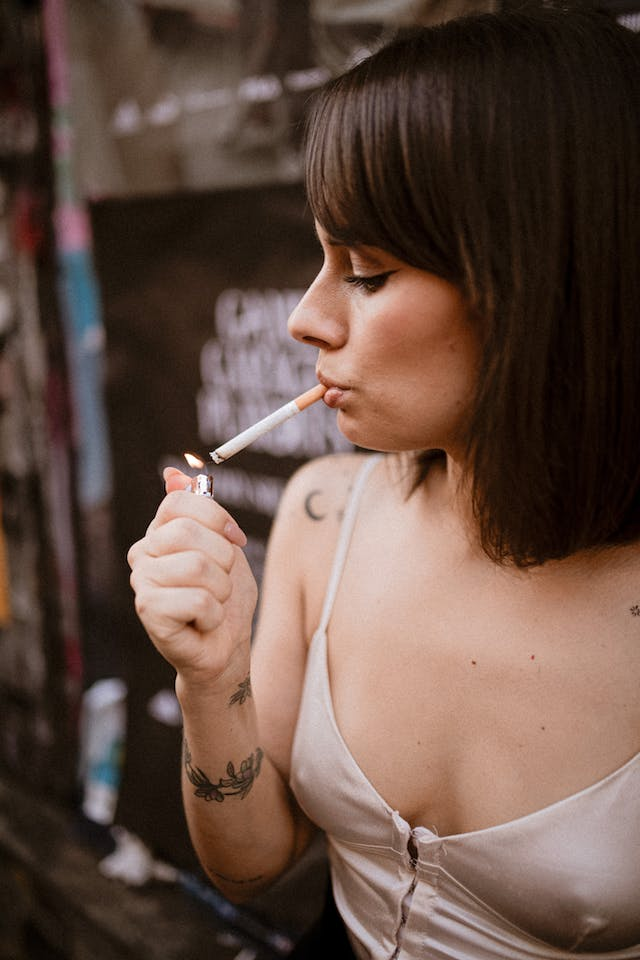Cigarette: (209, 384, 329, 465)
